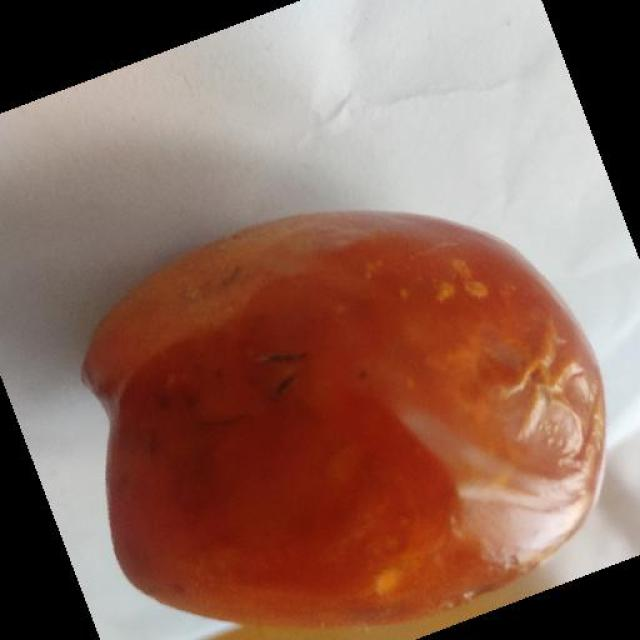Stale_tomato: (70, 216, 620, 634)
